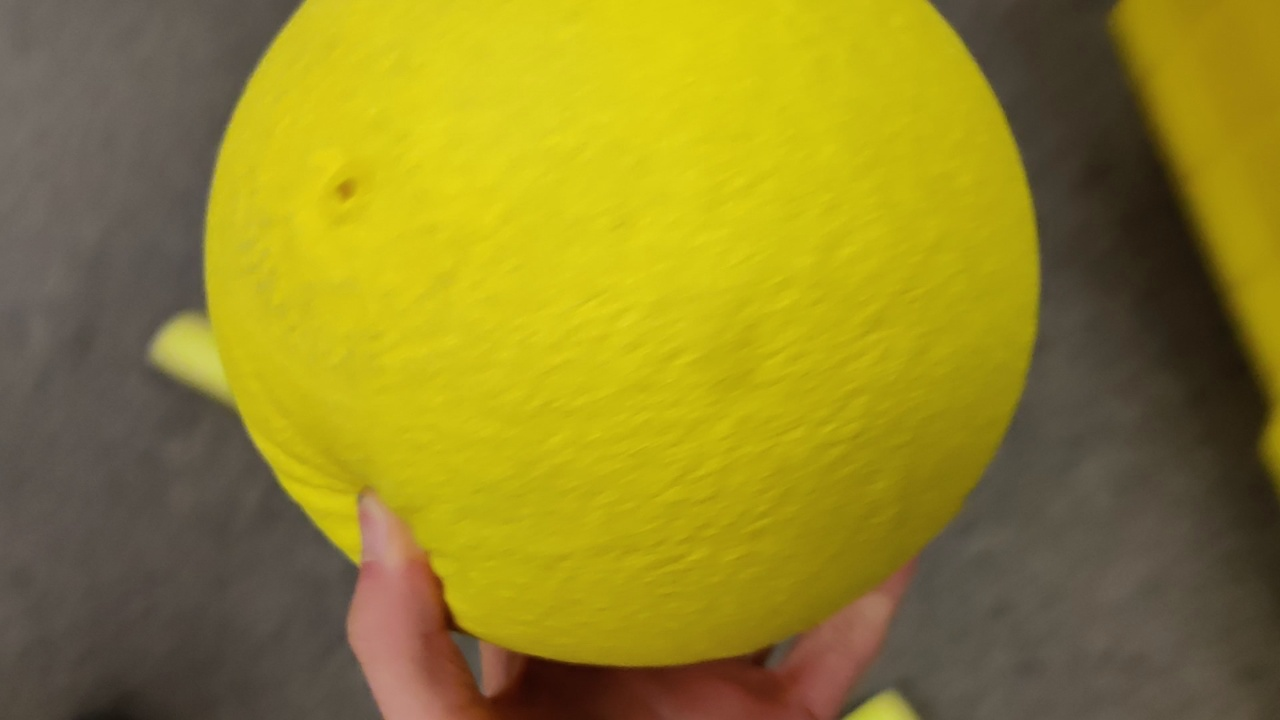Ball: (205, 2, 1047, 661)
